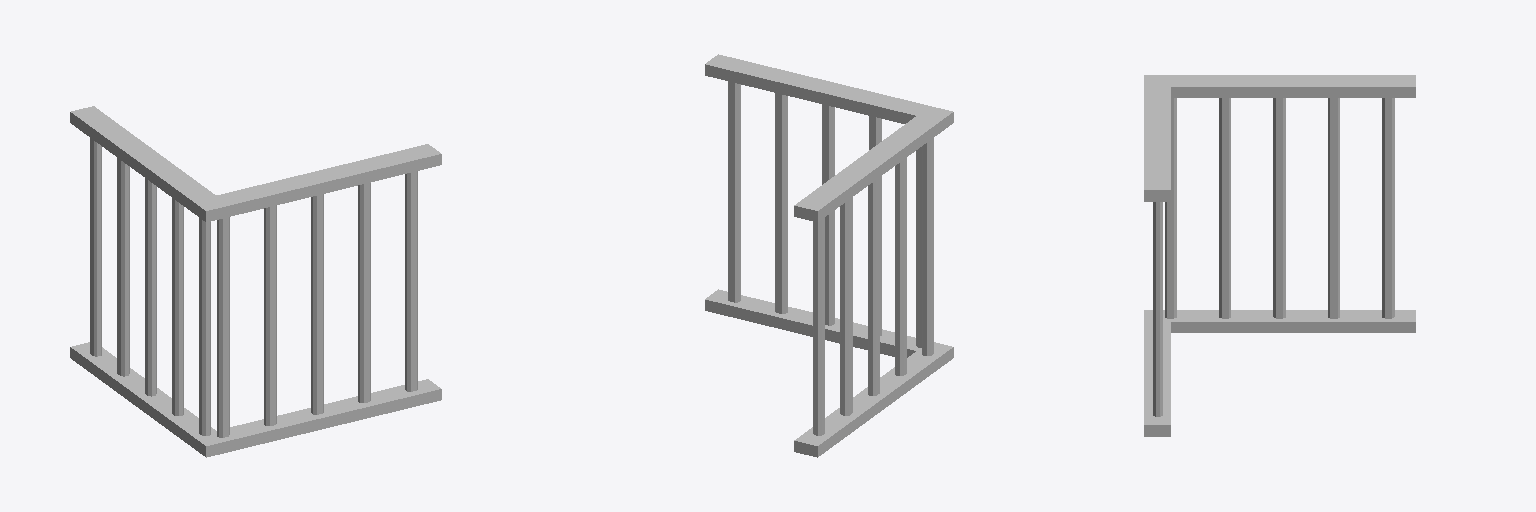
Rendered from ironbarcornerx+.obj.
The picture shows the model from 3 angles: view 1: azimuth 30°, elevation 25°; view 2: azimuth 150°, elevation 25°; view 3: azimuth 270°, elevation 25°; orthographic projection.
Visible parts, largest first — view 1: bedx+.001_bedx+.002; view 2: bedx+.001_bedx+.002; view 3: bedx+.001_bedx+.002.
Part boxes in pixels (bbox=[...]): bedx+.001_bedx+.002: bbox=[70, 106, 441, 457]; bedx+.001_bedx+.002: bbox=[705, 54, 953, 457]; bedx+.001_bedx+.002: bbox=[1144, 75, 1415, 436].
Size of the model in its own units: 1 by 1 by 1.